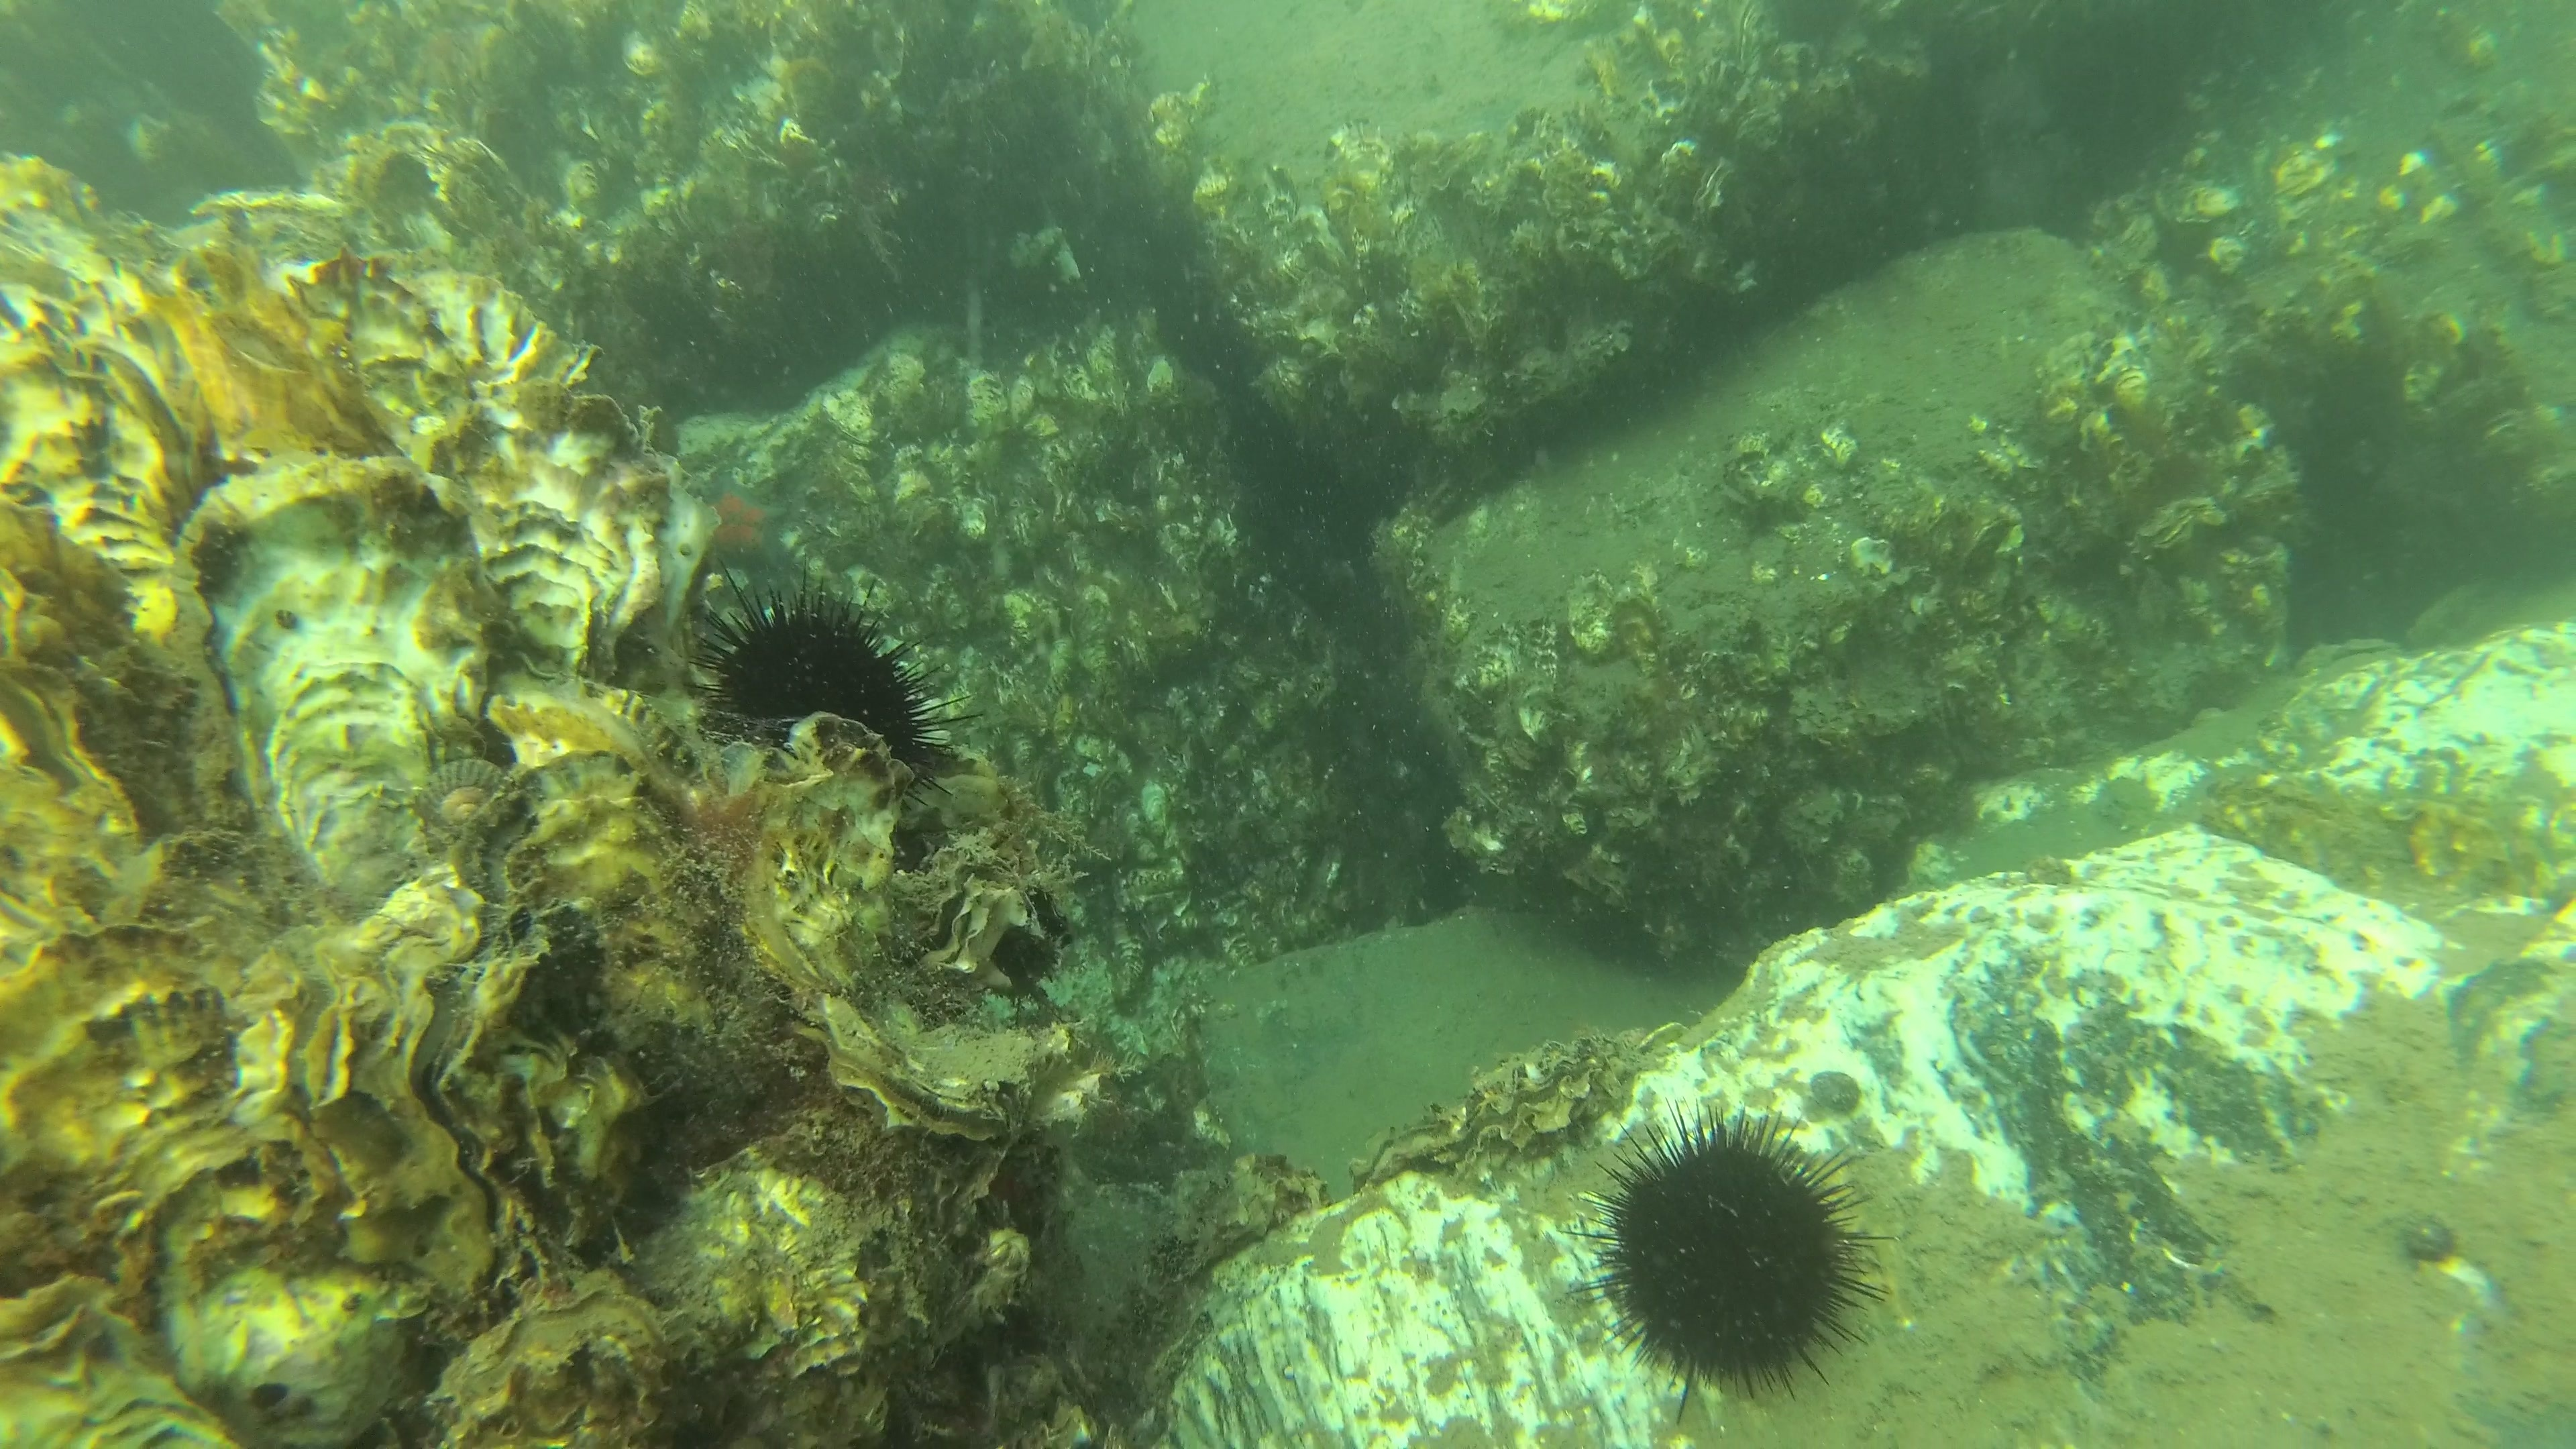echinus: (1566, 1104, 1893, 1422), (694, 552, 984, 810)
starfish: (678, 446, 814, 577)
